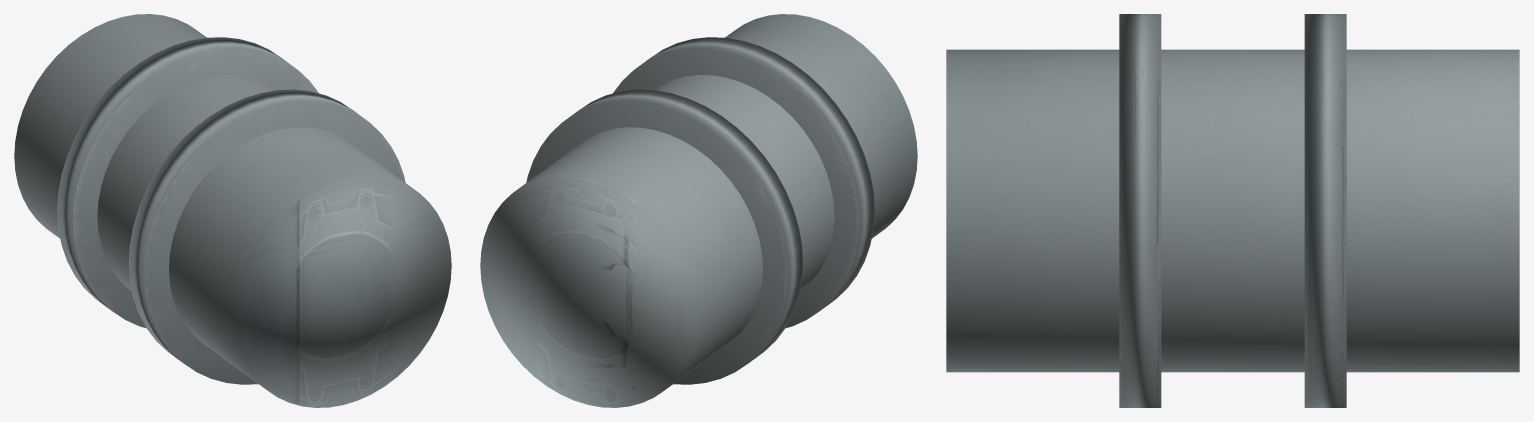
Rendered from SM_S4_Moyeu.glb.
3 views of the same model, side by side, from view 1: azimuth 30°, elevation 25°; view 2: azimuth 150°, elevation 25°; view 3: azimuth 270°, elevation 25° (orthographic). The views are drawn at different scales.
Bounding box in the file's own units: 1.38 × 1.38 × 2.
1 material, 1 textured.
